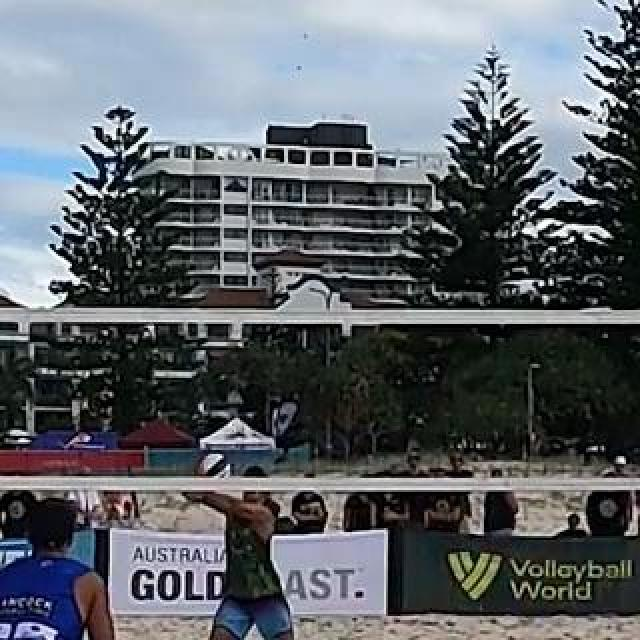volleyball: (196, 453, 232, 487)
